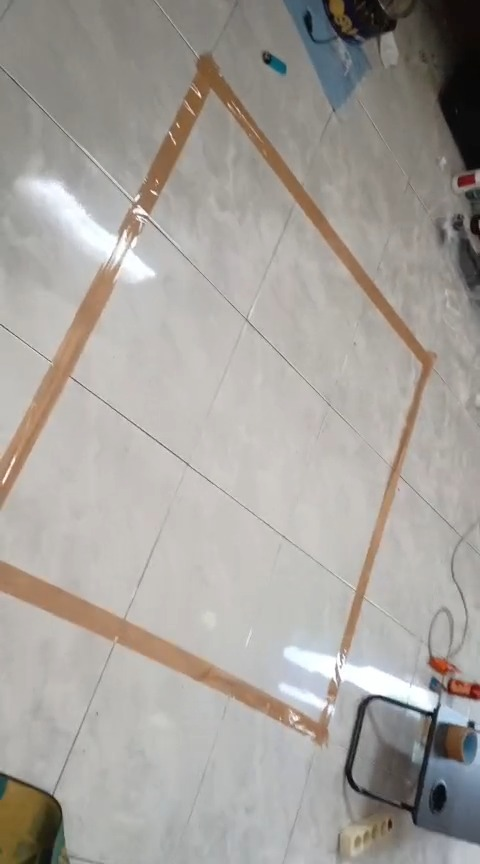floor marking: (0, 55, 434, 743)
